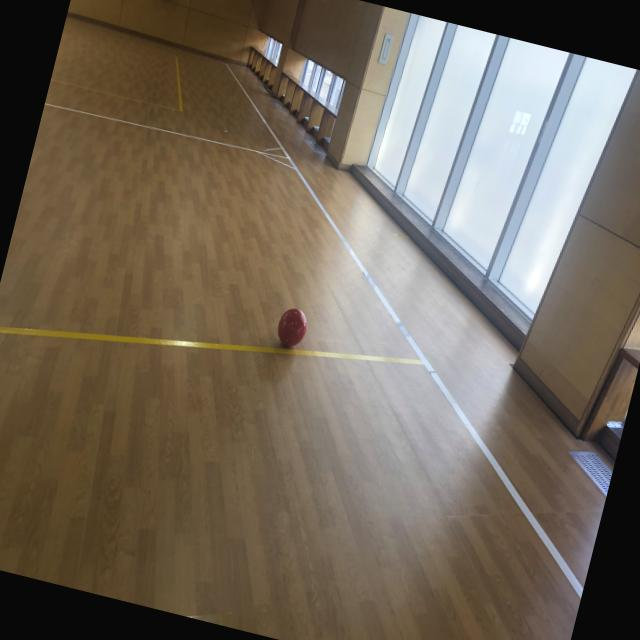red_ball: (273, 304, 311, 352)
